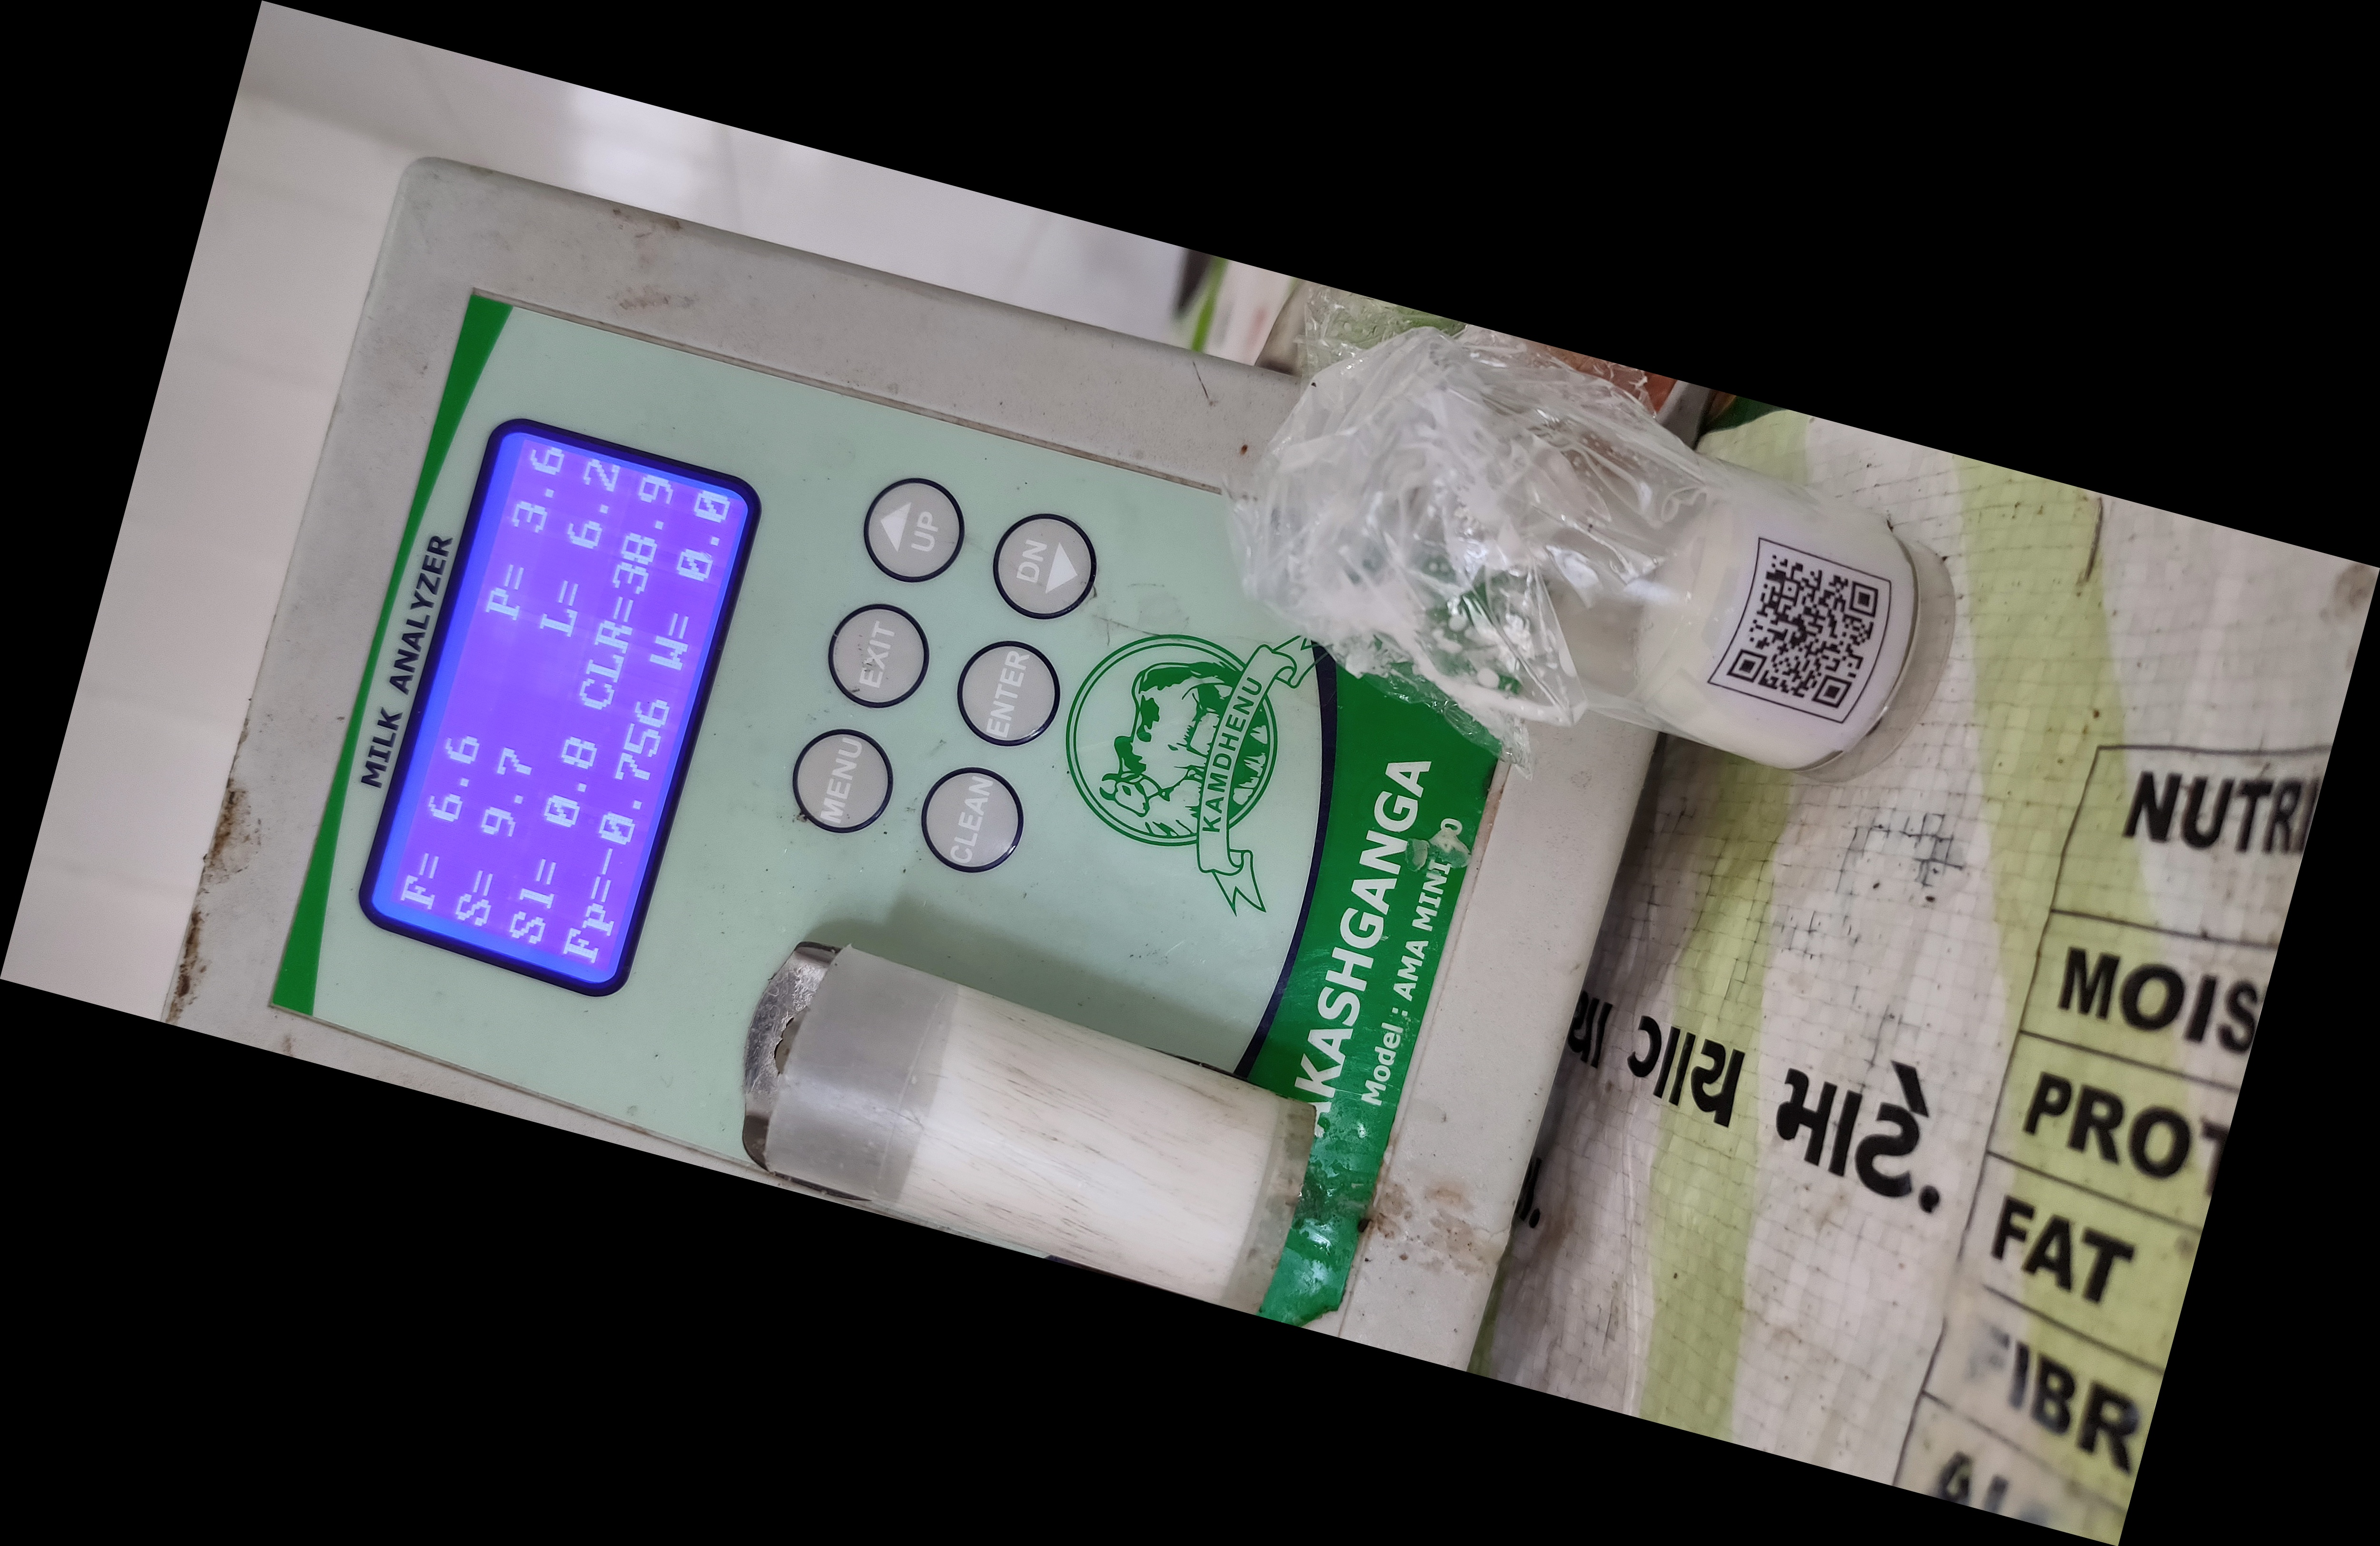lcd: (349, 404, 786, 1032)
qr: (1691, 527, 1896, 732)
